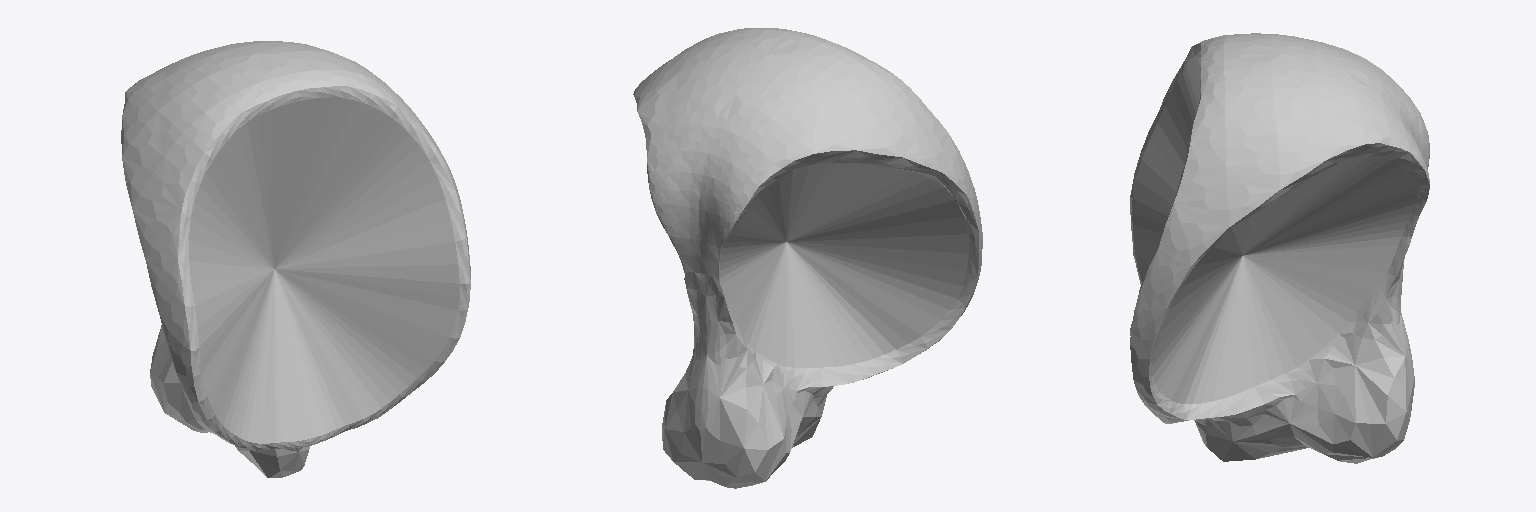
Rendered from panties_male 2.7.obj.
3 views of the same model, side by side, from view 1: azimuth 30°, elevation 25°; view 2: azimuth 150°, elevation 25°; view 3: azimuth 270°, elevation 25° (orthographic).
Parts seen in each view (by area): view 1: panties_female_panties_reference; view 2: panties_female_panties_reference; view 3: panties_female_panties_reference.
Boxes of the visible parts, x1,y1,x2,y2 form: panties_female_panties_reference: [121, 41, 470, 477]; panties_female_panties_reference: [633, 28, 982, 488]; panties_female_panties_reference: [1130, 33, 1429, 463].
Bounding box in the file's own units: 28.67 × 35.77 × 23.99.